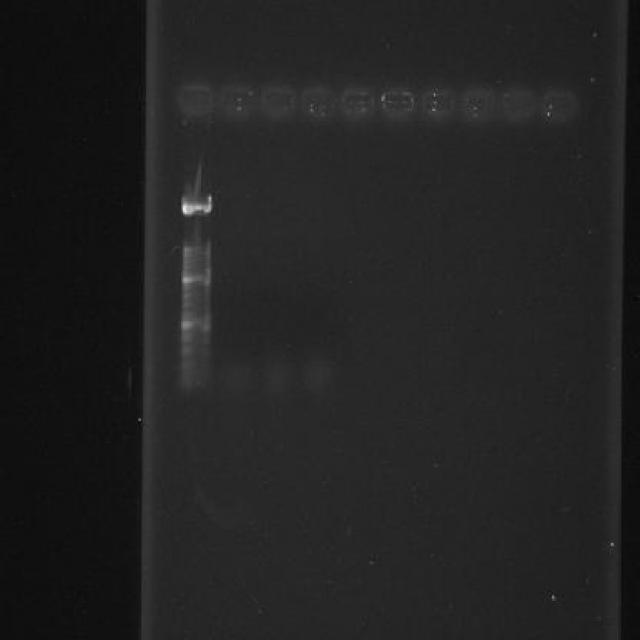L: (174, 73, 584, 133)
M: (172, 146, 220, 402)
P: (180, 193, 214, 216), (179, 316, 212, 330), (179, 272, 212, 286)
Pc: (216, 76, 258, 121), (539, 83, 581, 126), (178, 77, 213, 125), (298, 81, 338, 121), (499, 83, 538, 123), (457, 85, 497, 124), (260, 82, 296, 122), (341, 82, 376, 122), (418, 86, 456, 122), (378, 87, 416, 121)
